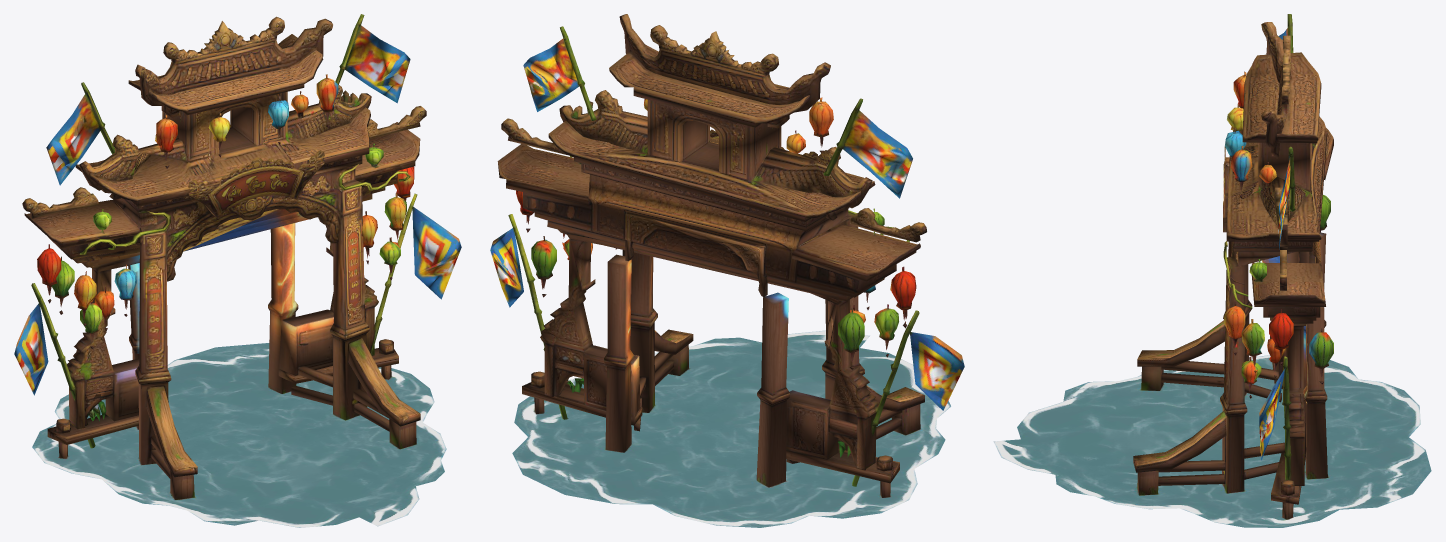
The model's file is 019e3f8a-8908-77bc-9f04-dcc85da85a10.glb.
3 renders of one model, left to right at view 1: azimuth 30°, elevation 25°; view 2: azimuth 150°, elevation 25°; view 3: azimuth 270°, elevation 25°, orthographic. The views are drawn at different scales.
Parts seen in each view (by area): view 1: tripo_node_c11fa5f3-f571-442d-8347-ac93b8007471; view 2: tripo_node_c11fa5f3-f571-442d-8347-ac93b8007471; view 3: tripo_node_c11fa5f3-f571-442d-8347-ac93b8007471.
Part boxes in pixels (bbox=[...]): tripo_node_c11fa5f3-f571-442d-8347-ac93b8007471: bbox=[14, 14, 461, 527]; tripo_node_c11fa5f3-f571-442d-8347-ac93b8007471: bbox=[490, 14, 964, 527]; tripo_node_c11fa5f3-f571-442d-8347-ac93b8007471: bbox=[993, 14, 1431, 527].
Size of the model in its own units: 0.998 by 0.8613 by 0.8691.
Materials: 1 (1 with a texture image).
